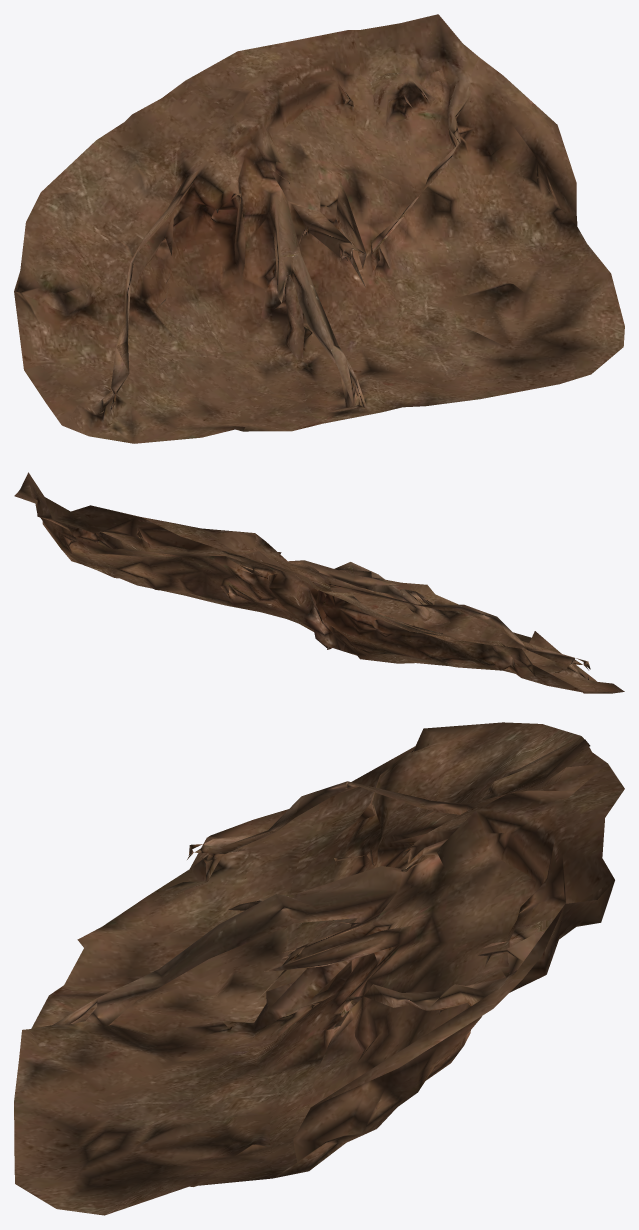
The model's file is roots.glb.
The picture shows the model from 3 angles, top to bottom: view 1: azimuth 30°, elevation 25°; view 2: azimuth 150°, elevation 25°; view 3: azimuth 270°, elevation 25°; orthographic projection. The views are drawn at different scales.
Visible parts, largest first — view 1: root_cluster_01; view 2: root_cluster_01; view 3: root_cluster_01.
Boxes of the visible parts, x1,y1,x2,y2 form: root_cluster_01: (14,14,624,443); root_cluster_01: (14,472,624,693); root_cluster_01: (14,722,624,1215).
Bounding box in the file's own units: 4.12 × 1.5 × 2.68.
1 material, 1 textured.
